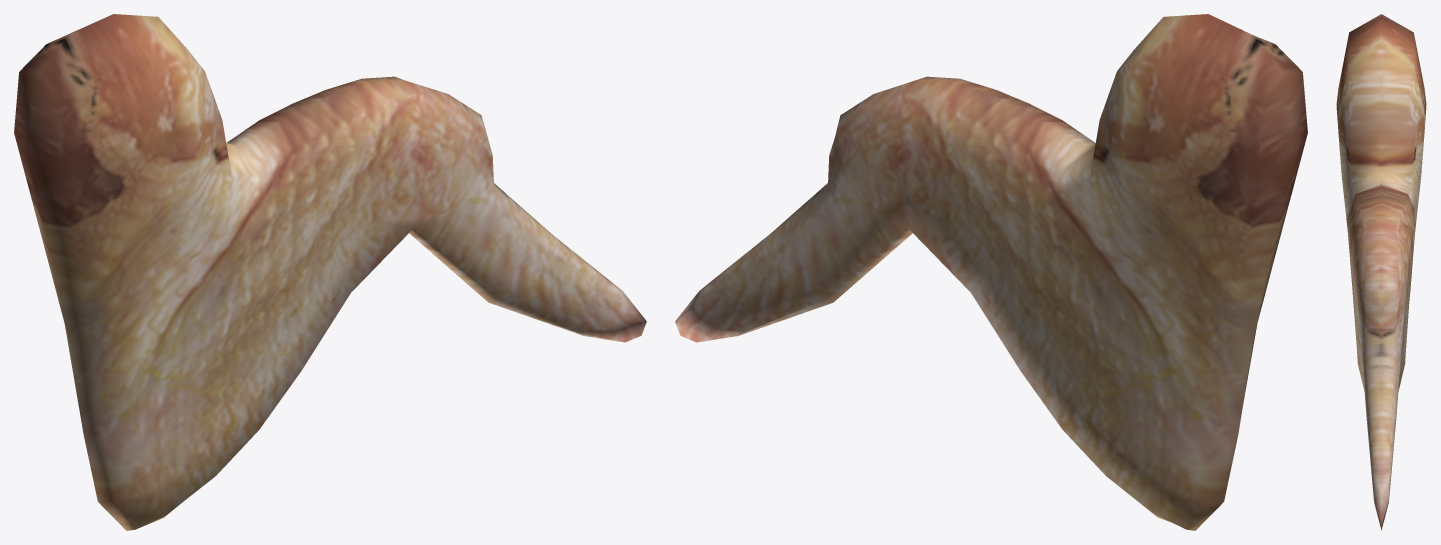
Rendered from giblets_2.fbx.
The picture shows the model from 3 angles, left to right: view 1: azimuth 30°, elevation 25°; view 2: azimuth 150°, elevation 25°; view 3: azimuth 270°, elevation 25°; orthographic projection. The views are drawn at different scales.
Visible parts, largest first — view 1: giblets_02; view 2: giblets_02; view 3: giblets_02.
Part boxes in pixels (x1,y1,x2,y2): giblets_02: (14, 14, 646, 530); giblets_02: (675, 14, 1307, 530); giblets_02: (1336, 14, 1426, 530).
Size of the model in its own units: 18.27 by 14.65 by 3.2.
